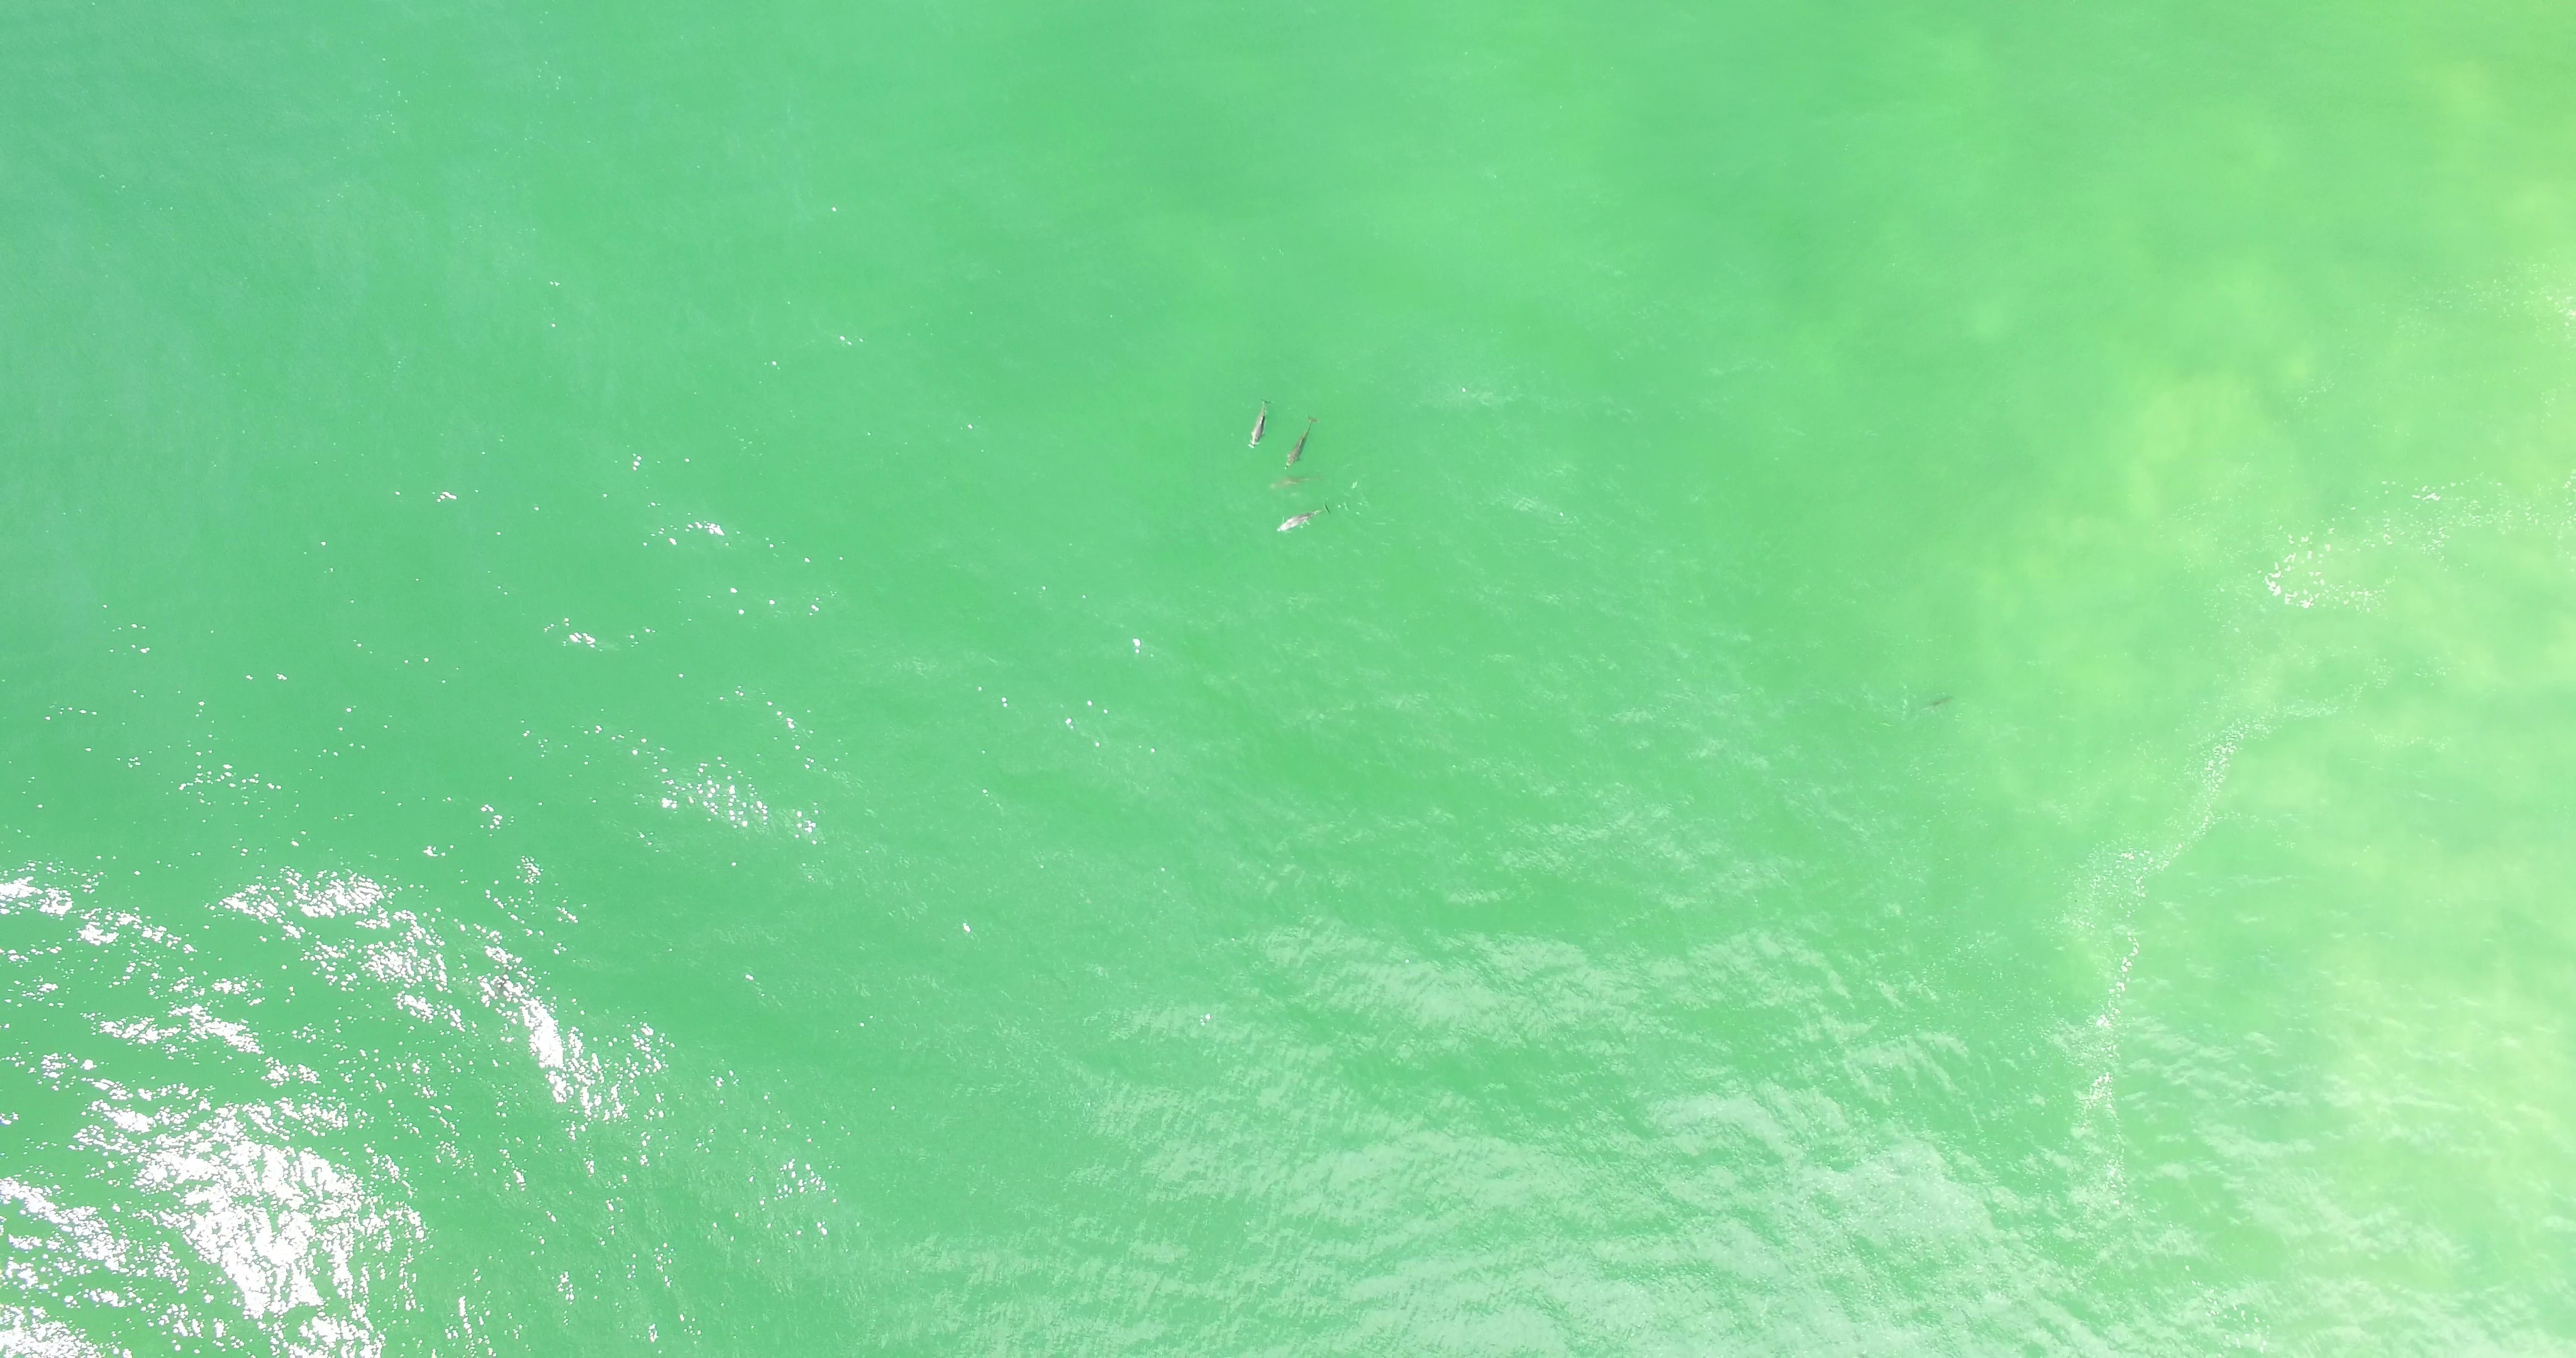dolphin: (1276, 503, 1334, 535), (1285, 414, 1319, 469), (1247, 399, 1274, 450), (1903, 692, 1954, 717), (1268, 472, 1327, 492)
